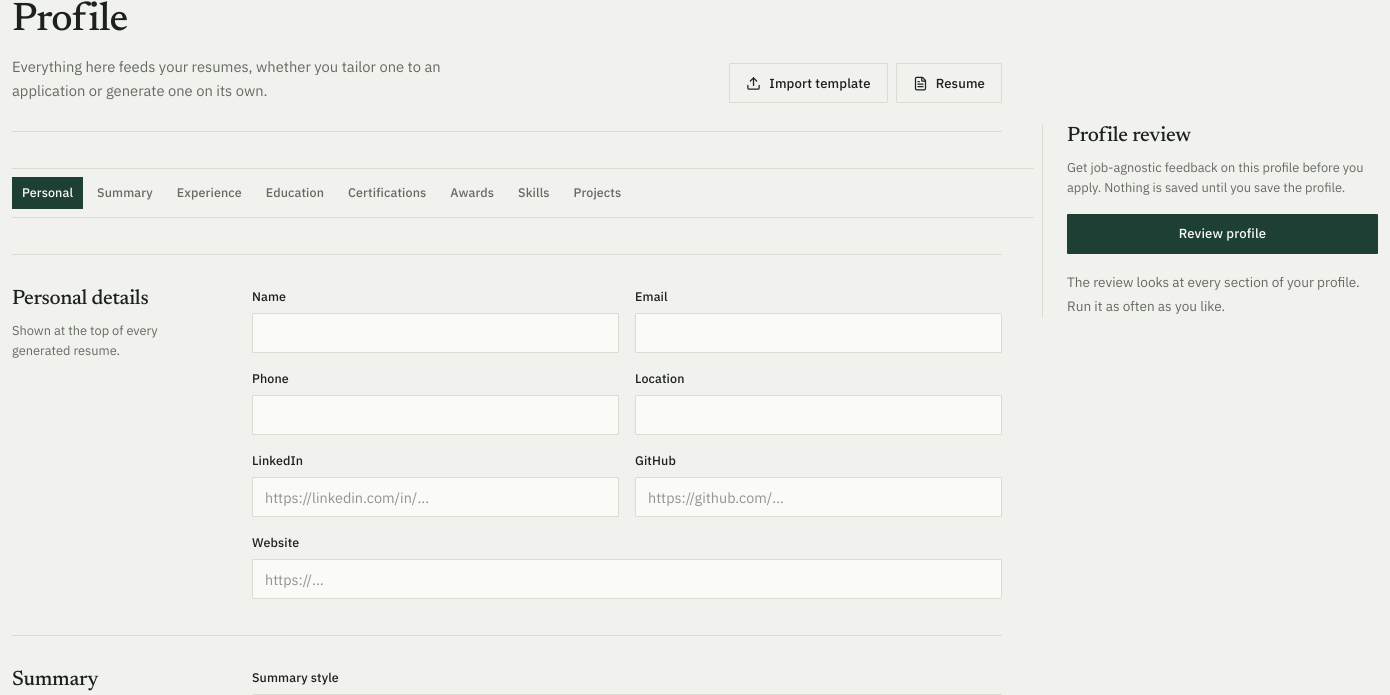
ProfilePage › refuses a summary proposal after the blank summary is filled in
Expected: the heading "Profile" is shown, [12,1,128,41]
Click the button "Review profile" at (1222, 234), box [1067,214,1378,254]
(page scrolled)
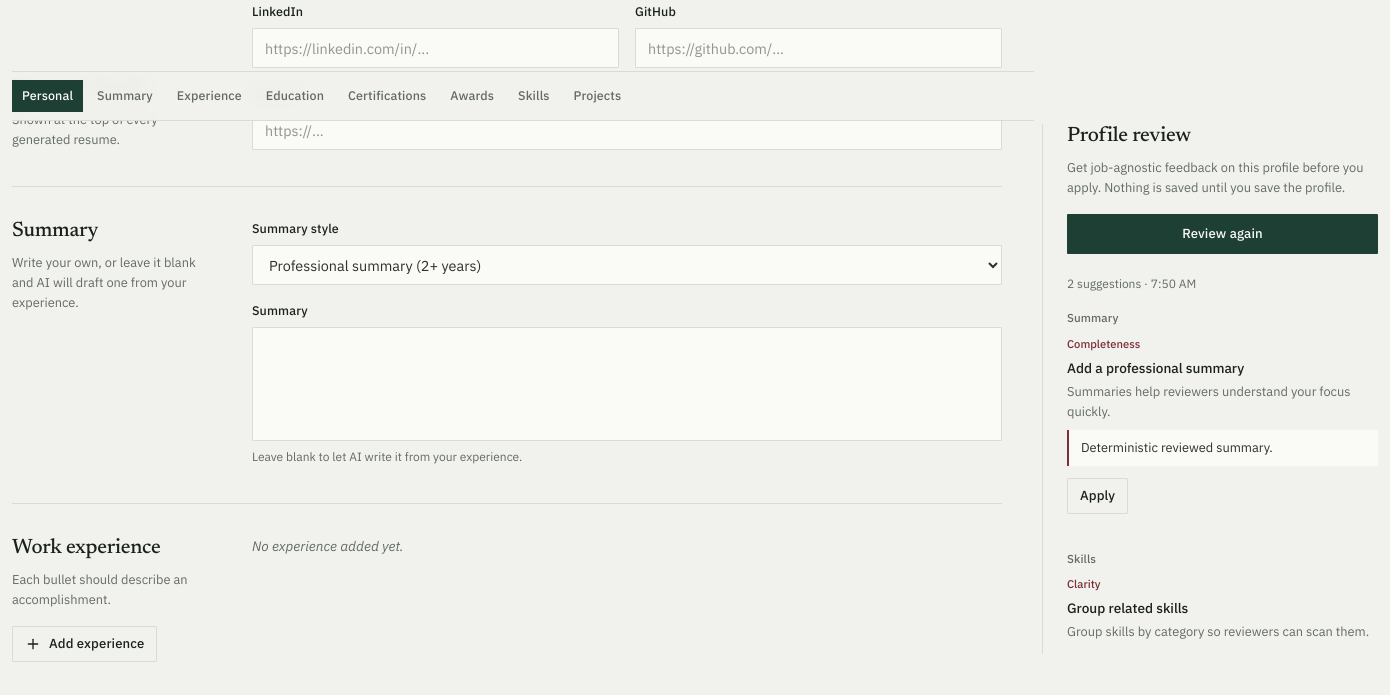
Now the text "2 suggestions · 7:50 AM" is shown, box [1067,276,1196,291]
Type "Typed after review" into the text box labelled "Summary" at (627, 384), box [252,327,1002,441]
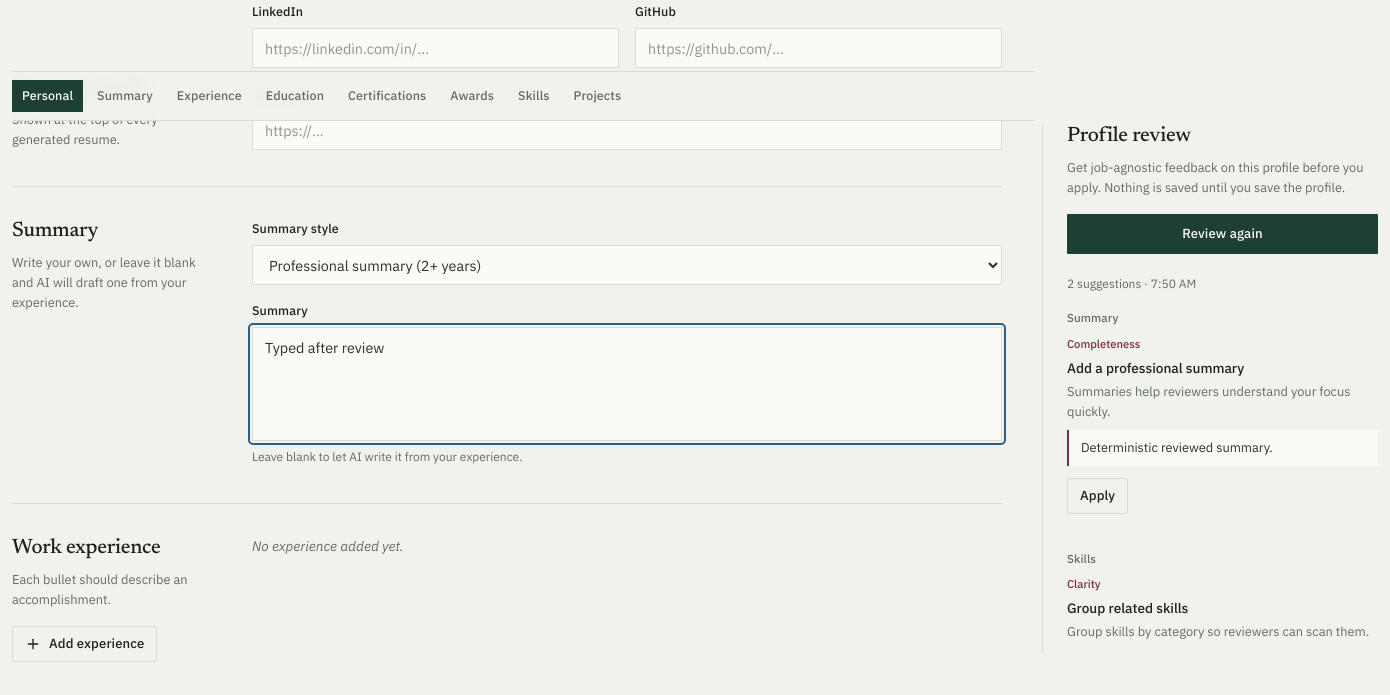
Click the button with aria-label "Apply suggestion: Add a professional summary" at (1098, 496), box [1067,478,1128,514]
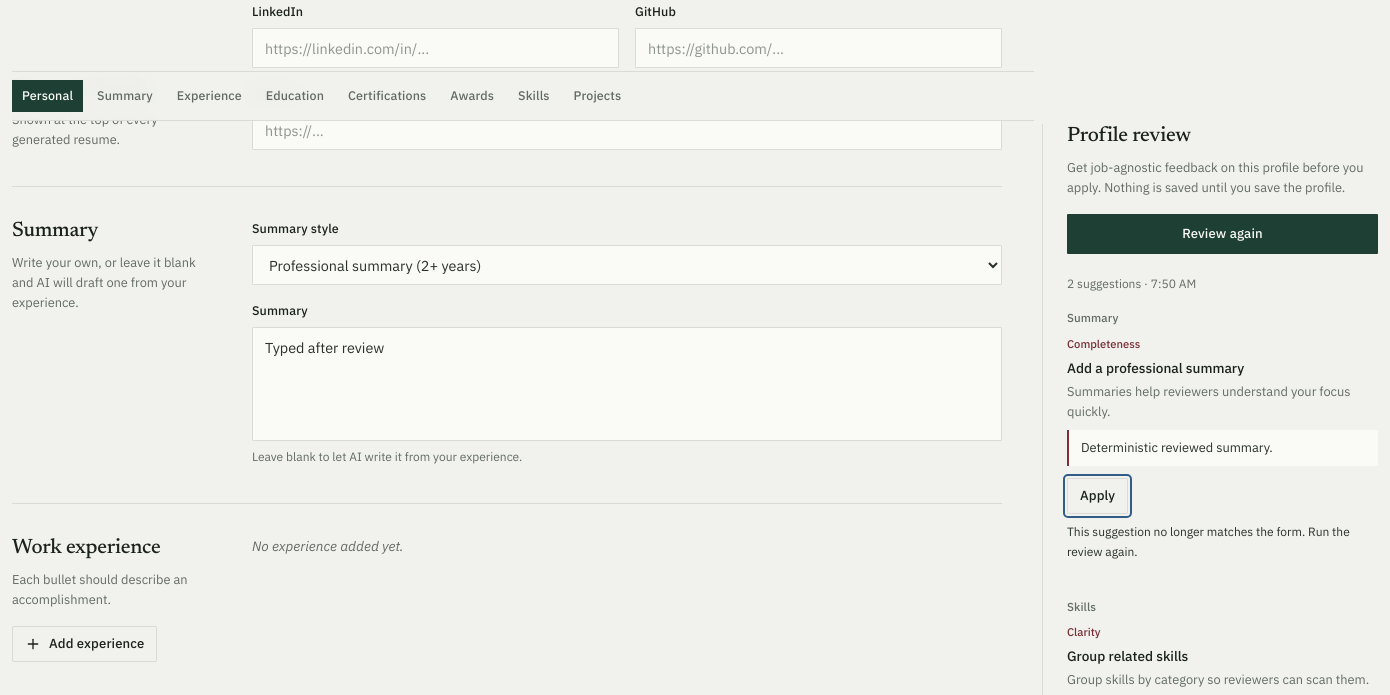
Now the text "This suggestion no longer matches the form. Run the review again." is shown, box [1067,522,1378,562]
